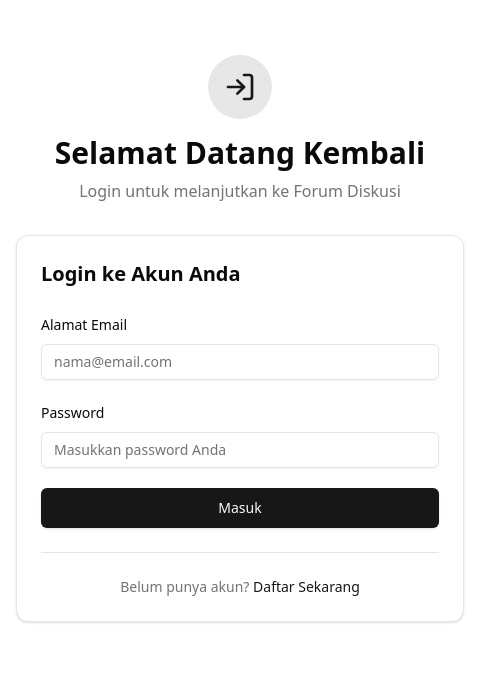
Scenario: Login spec › should display alert when email and password are wrong
The image size is (481, 679).
Type "wrong@example.com" into the field labelled "Alamat Email" at {"x": 240, "y": 362}, box [41, 344, 439, 380]
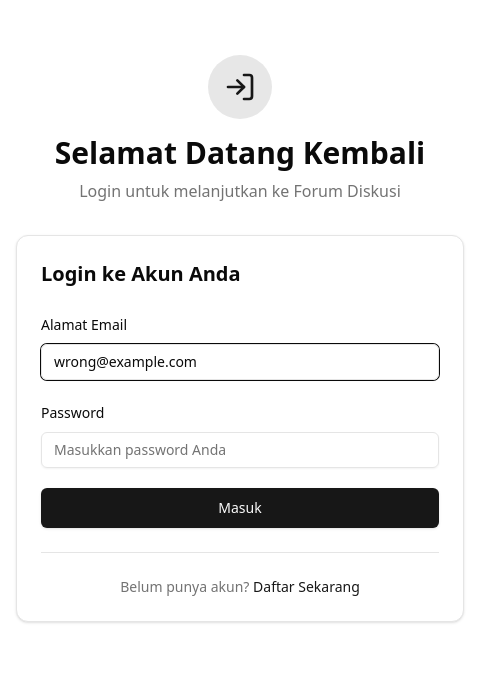
Type "wrongpassword" into the password field labelled "Password" at {"x": 240, "y": 450}, box [41, 432, 439, 468]
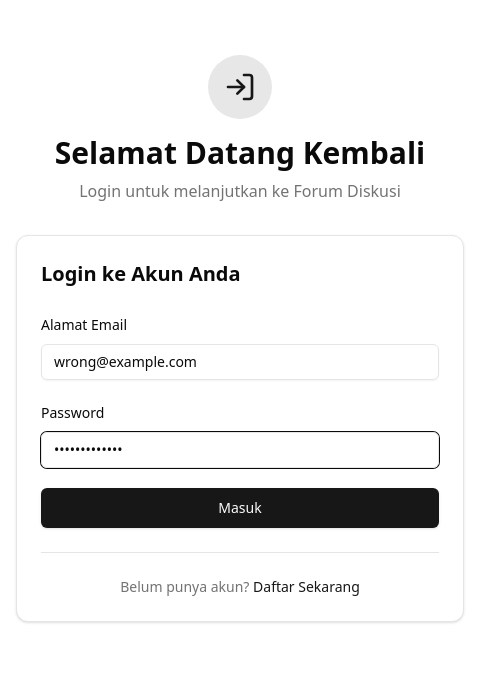
Click the button "Masuk" at {"x": 240, "y": 508}, box [41, 488, 439, 528]
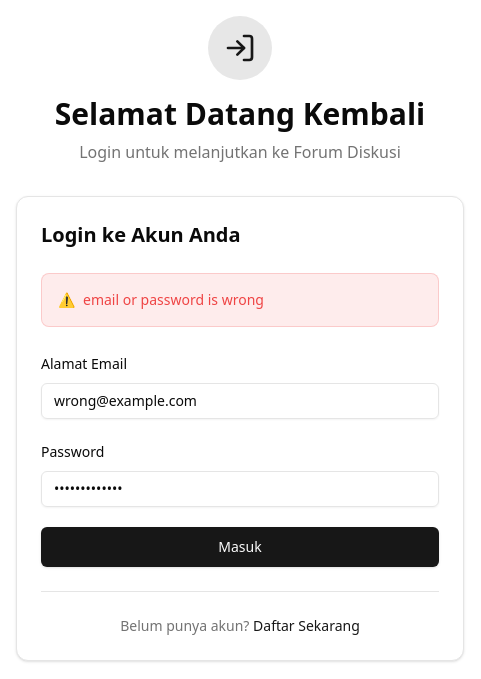
expect the text "email or password is wrong" is shown: met, box [83, 290, 264, 310]
